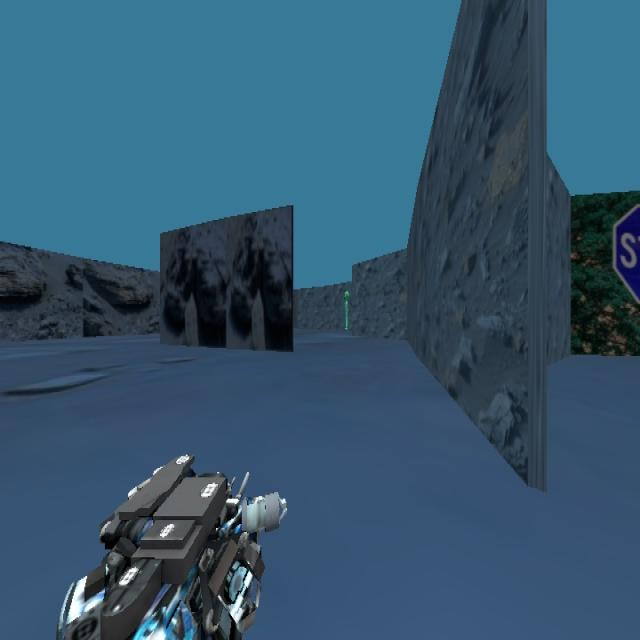Alien: (342, 288, 350, 331)
Stop_Sign: (612, 203, 639, 304)
